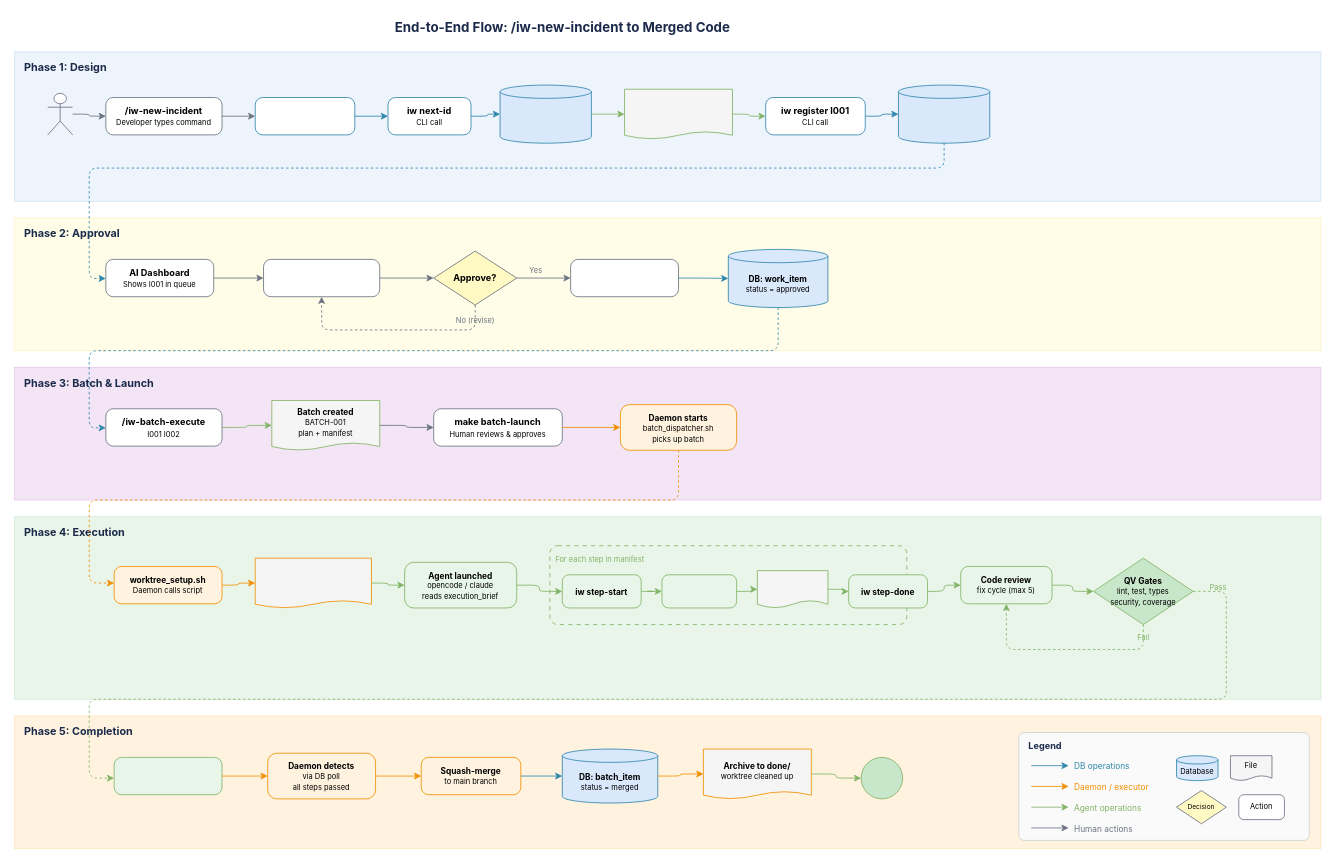
This 1335x863 diagram has some shape labels left out. The centre of each missing label's shape, as x and y in pixels:
"All steps complete Agent exits cleanly" belongs at point 167,776.
"Claude creates design doc + prompts" belongs at point 678,113.
"DB: work_item status = draft" belongs at point 944,113.
"Developer" belongs at point 60,114.
"Developer reviews design doc + prompts" belongs at point 321,278.
"DONE" belongs at point 881,778.
"Execute implement + test" belongs at point 699,591.
"iw approve I001 or Dashboard click" belongs at point 624,278.
"PostgreSQL Returns I001 (atomic sequence)" belongs at point 545,113.
"Skill loads from .claude/skills/" belongs at point 304,116.
"Worktree ready + deps installed + execution_brief.json" belongs at point 312,582.
"Write report" belongs at point 792,589.
